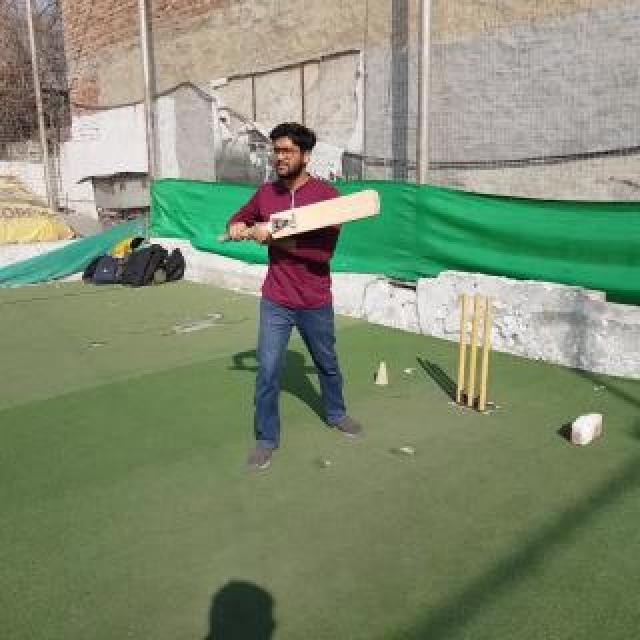bat: (220, 188, 382, 244)
